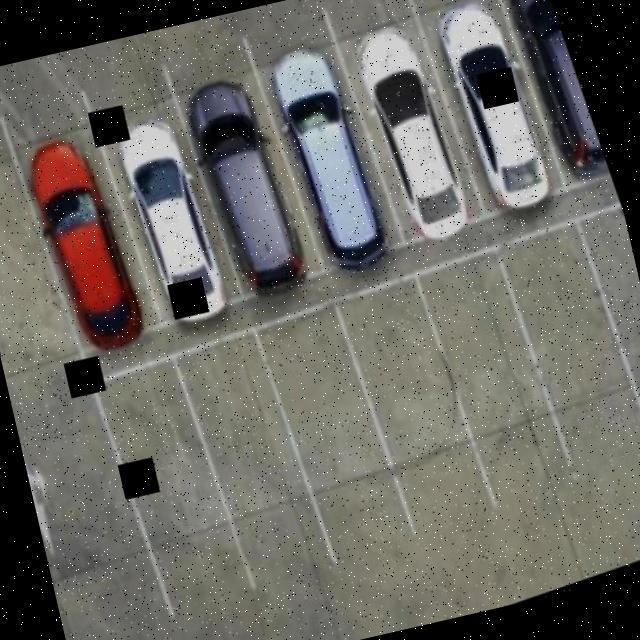Car: (248, 12, 408, 293), (6, 112, 171, 378), (335, 0, 493, 273), (172, 52, 326, 316), (97, 92, 250, 346), (415, 0, 572, 244), (474, 0, 611, 197)
Vacant: (426, 247, 584, 528), (175, 329, 337, 602), (94, 353, 248, 619), (260, 300, 412, 569), (338, 274, 492, 538), (500, 226, 640, 510), (569, 210, 640, 486)
